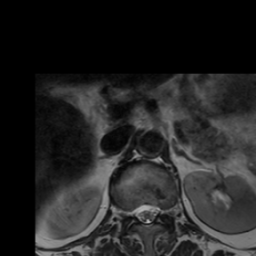CCS_normal: (142, 196, 150, 233)
LFS_stenosis: (160, 197, 169, 223)
LLS_normal: (150, 196, 160, 226)
RFS_stenosis: (126, 200, 134, 225)
RLS_normal: (134, 199, 142, 227)
